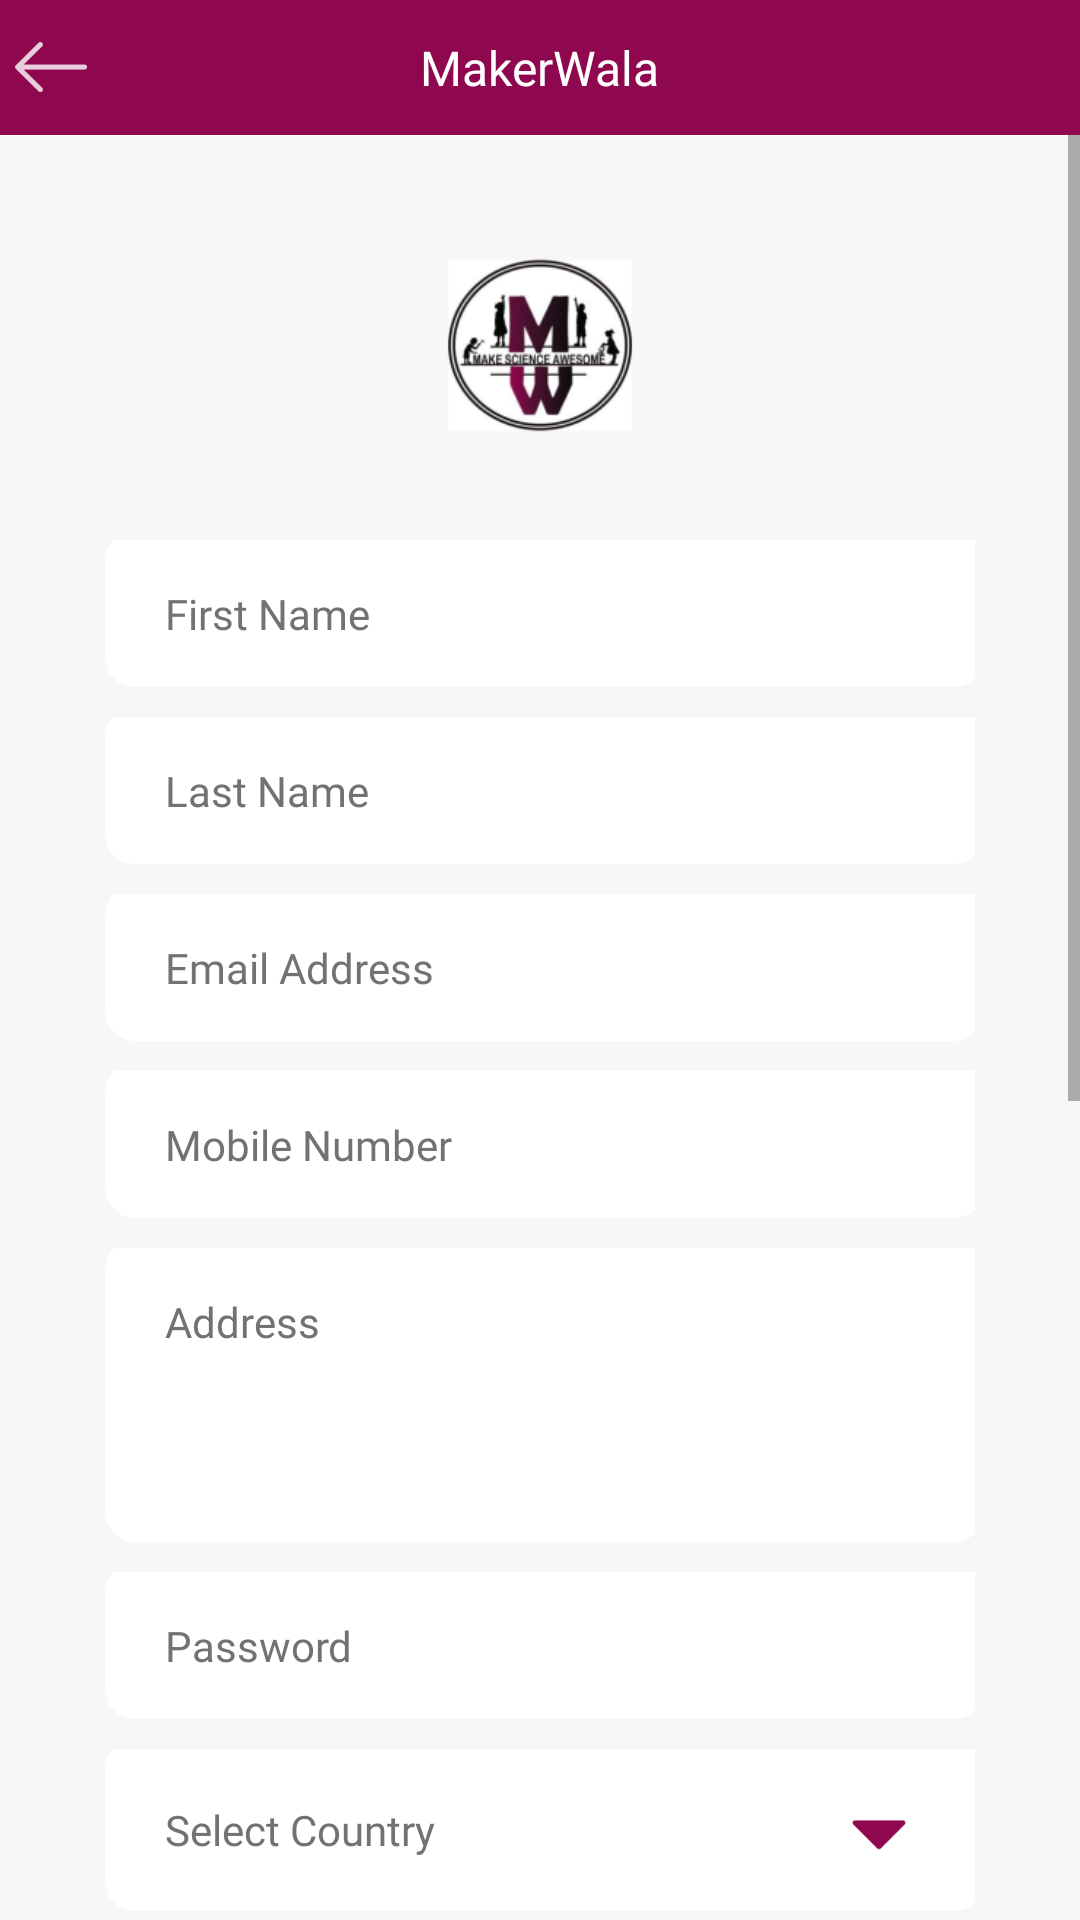

Icon bounding boxes for this 1080px x 1920px phone screenshot, format bbox=(x1, y1, x2, y2):
back: bbox=(15, 42, 87, 92)
